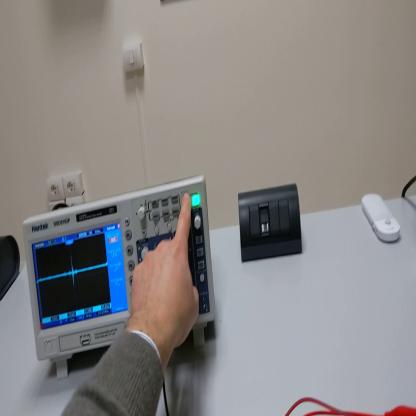hand: (129, 192, 200, 360)
oscilloscope: (22, 158, 216, 376)
socket: (1, 233, 22, 303)
